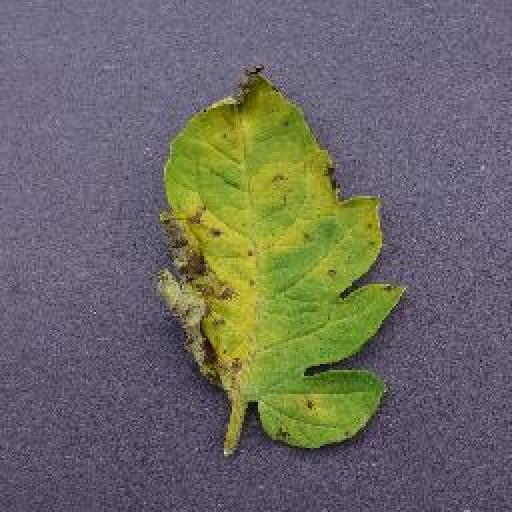disease_tomato: (156, 62, 414, 452)
